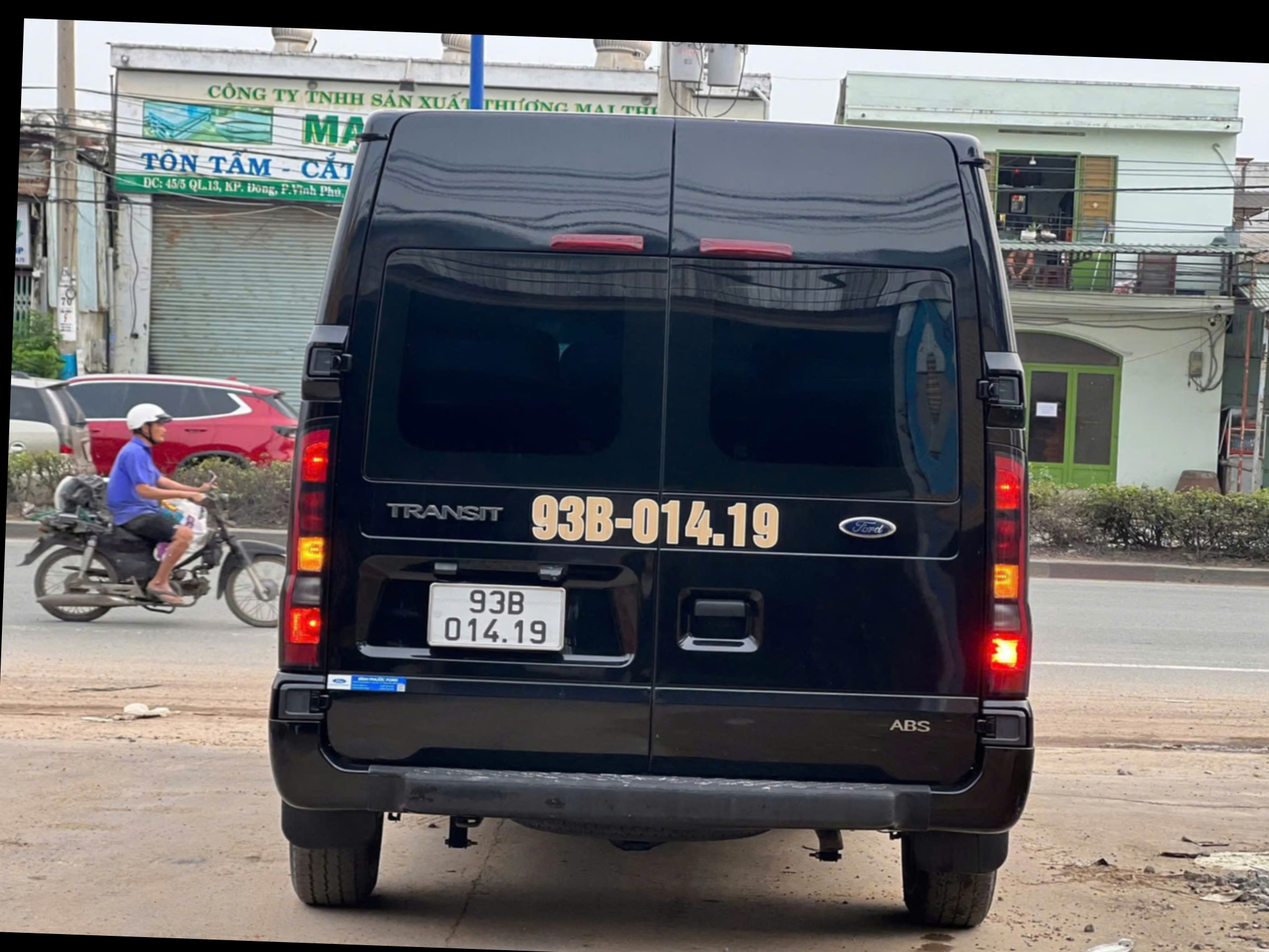Bien-so: (367, 536, 517, 619)
